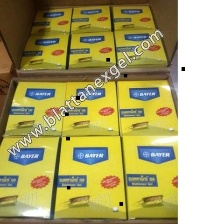book: (116, 132, 201, 222), (47, 132, 131, 223), (0, 135, 61, 223), (3, 78, 68, 142), (113, 77, 178, 140), (58, 78, 122, 141), (111, 26, 170, 72), (17, 31, 68, 73), (64, 31, 116, 71), (24, 6, 76, 42), (65, 5, 118, 40), (107, 3, 158, 39)
